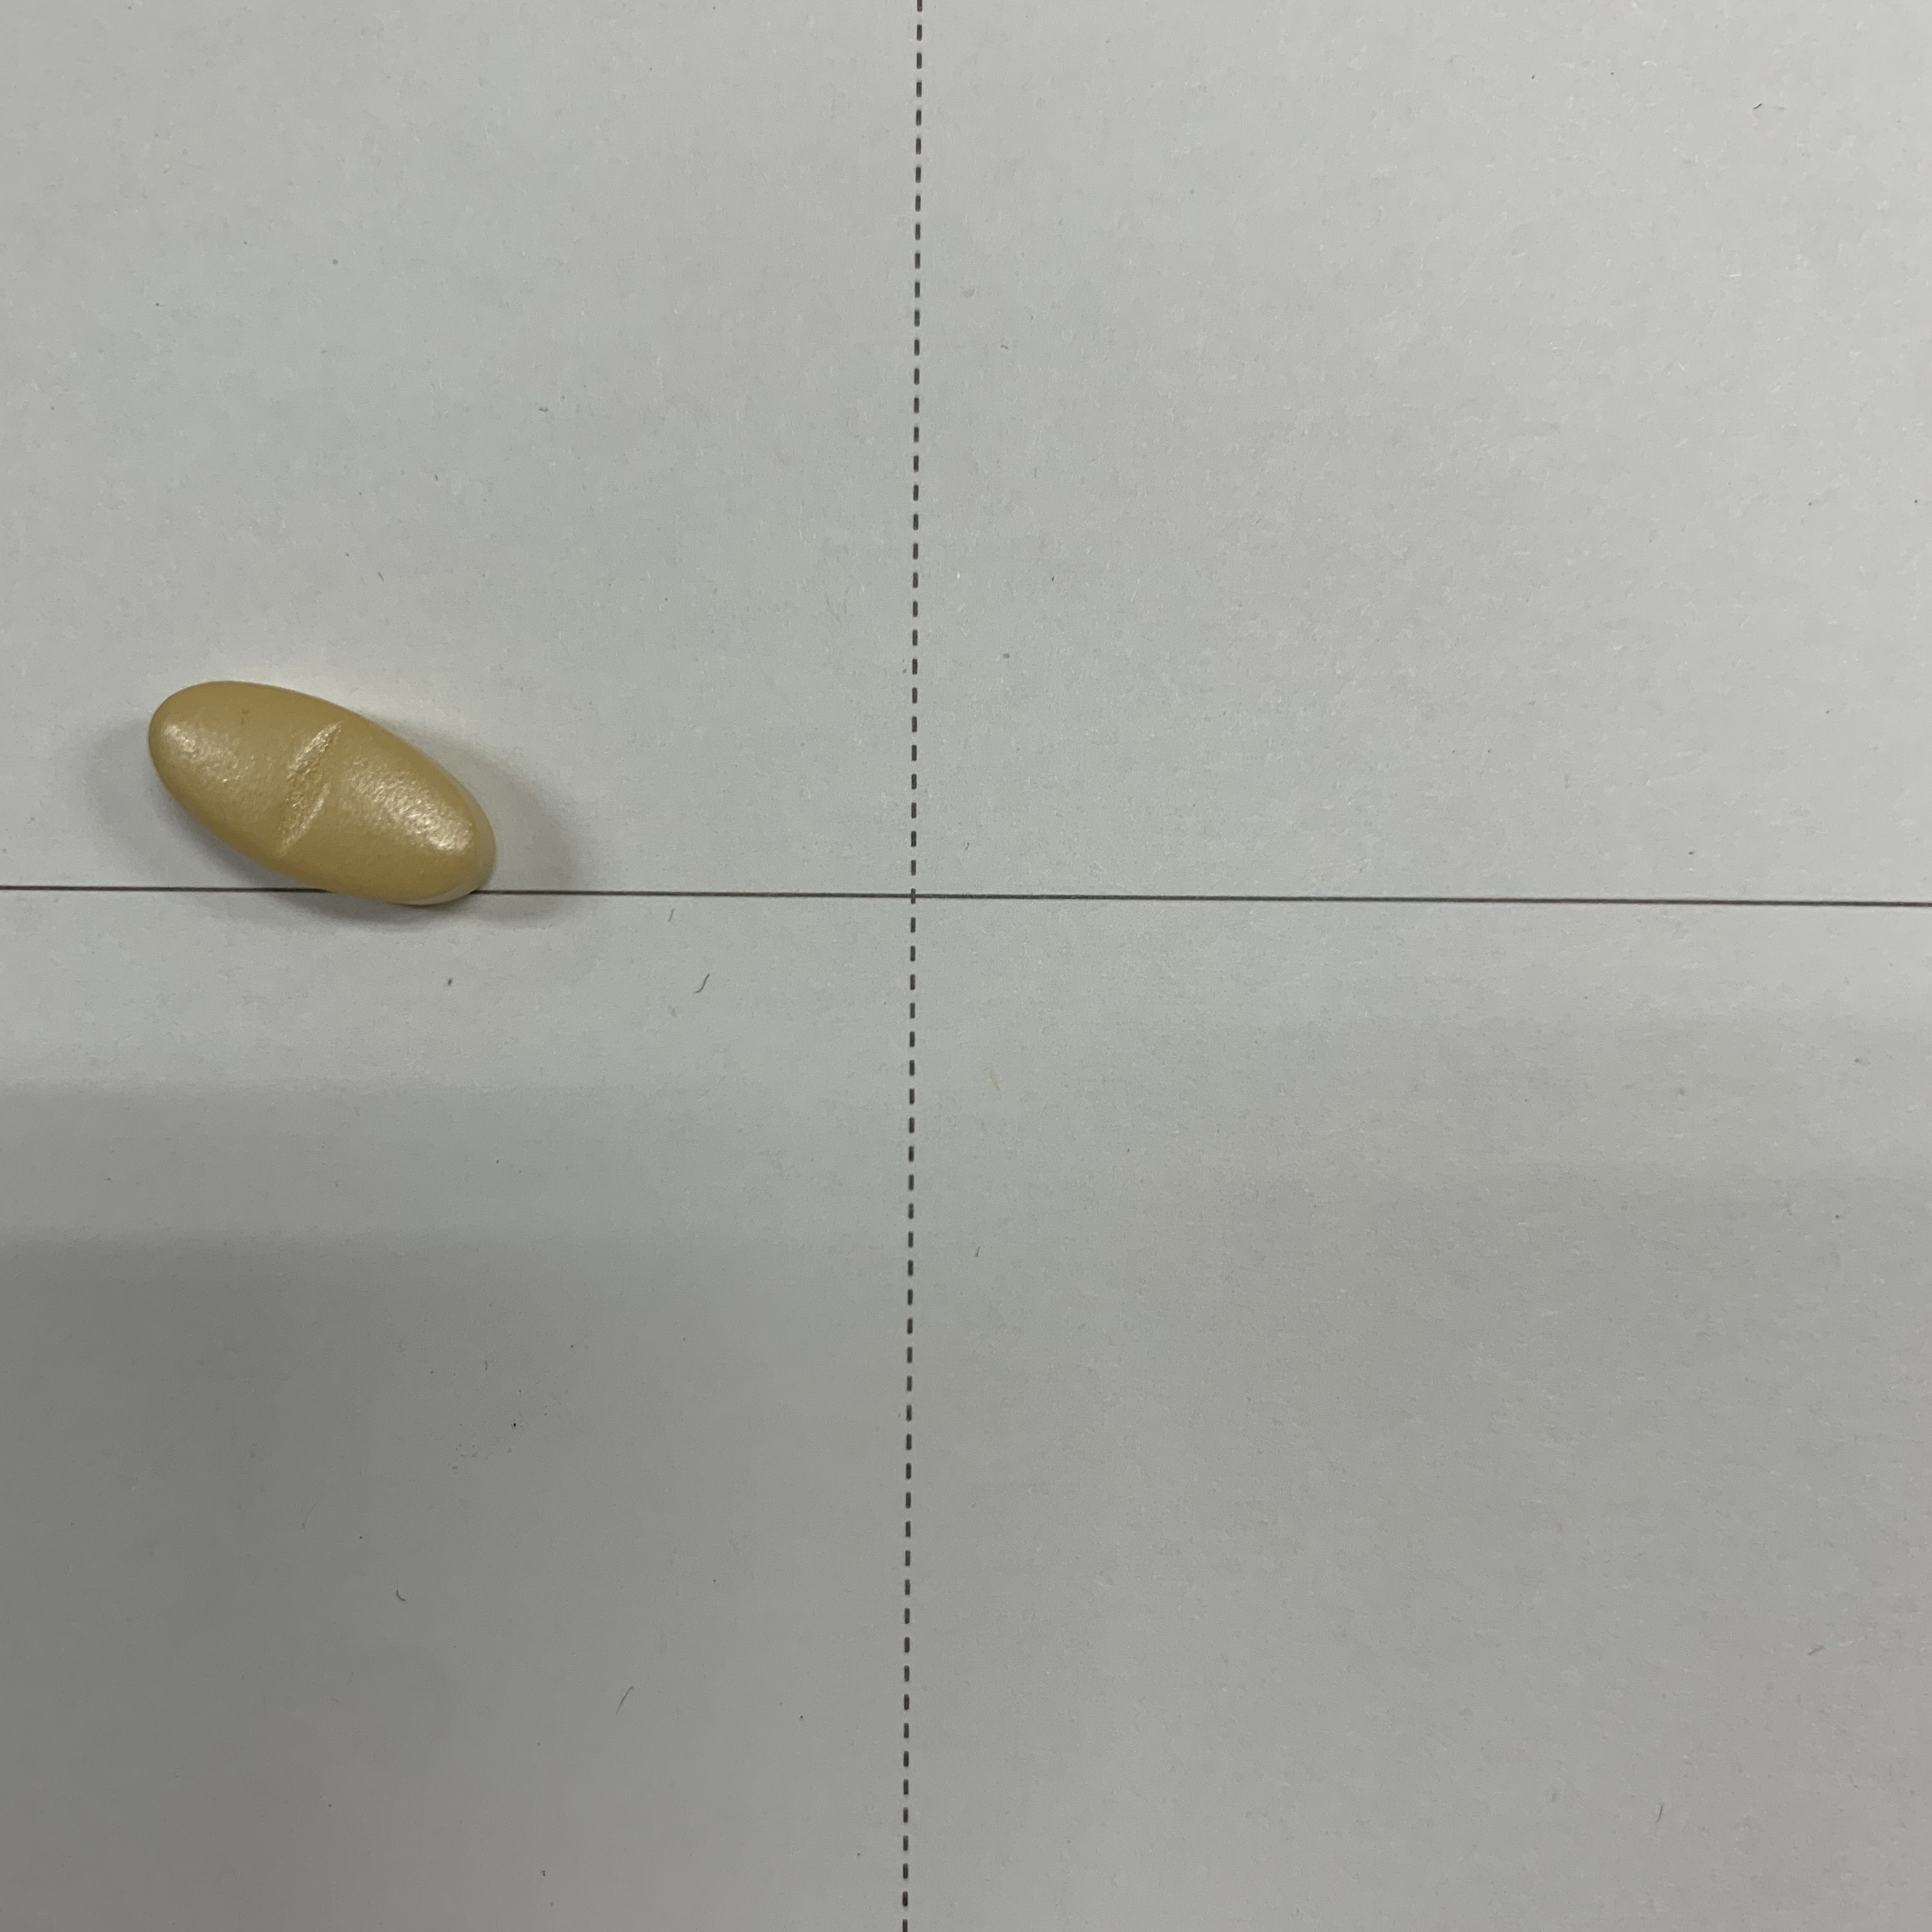oval_drug: (126, 662, 524, 939)
